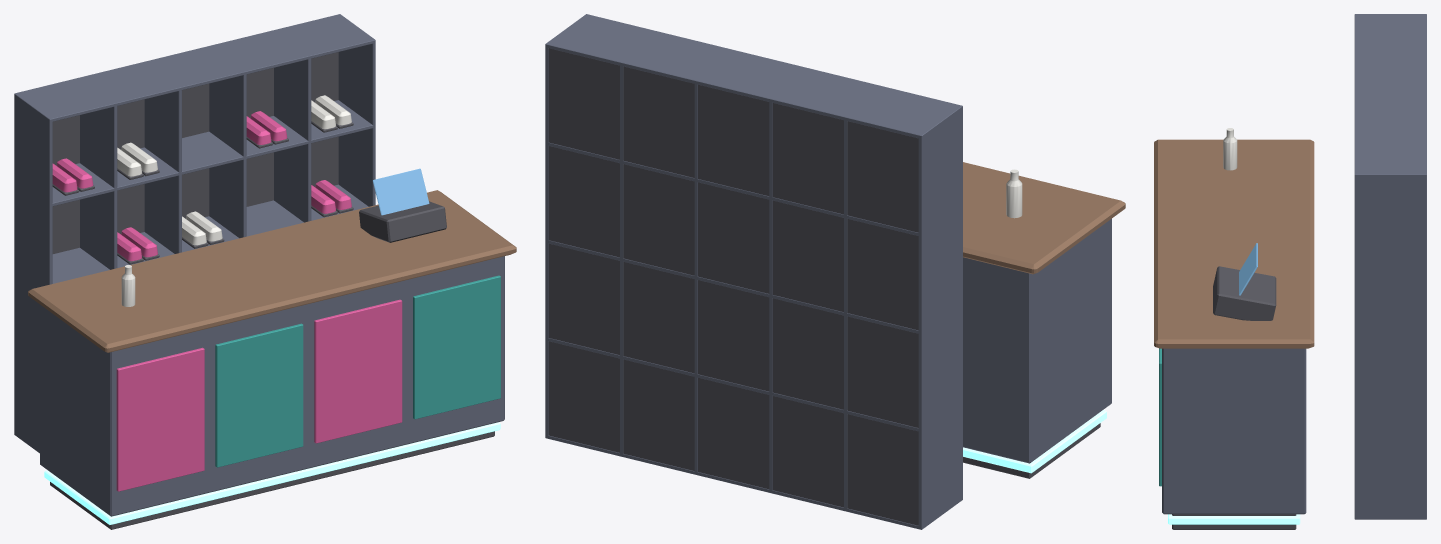
The model's file is bowling-alley-and-pool-hall-shoe-hire-counter-07376aed__33867.glb.
3 views of the same model, side by side, from view 1: azimuth 30°, elevation 25°; view 2: azimuth 150°, elevation 25°; view 3: azimuth 270°, elevation 25° (orthographic). The views are drawn at different scales.
Visible parts, largest first — view 1: shoe-hire-counter; view 2: shoe-hire-counter; view 3: shoe-hire-counter.
Part boxes in pixels (bbox=[...]): shoe-hire-counter: bbox=[14, 14, 516, 529]; shoe-hire-counter: bbox=[545, 14, 1125, 529]; shoe-hire-counter: bbox=[1154, 14, 1426, 529].
Size of the model in its own units: 2.4 by 1.9 by 1.36.
